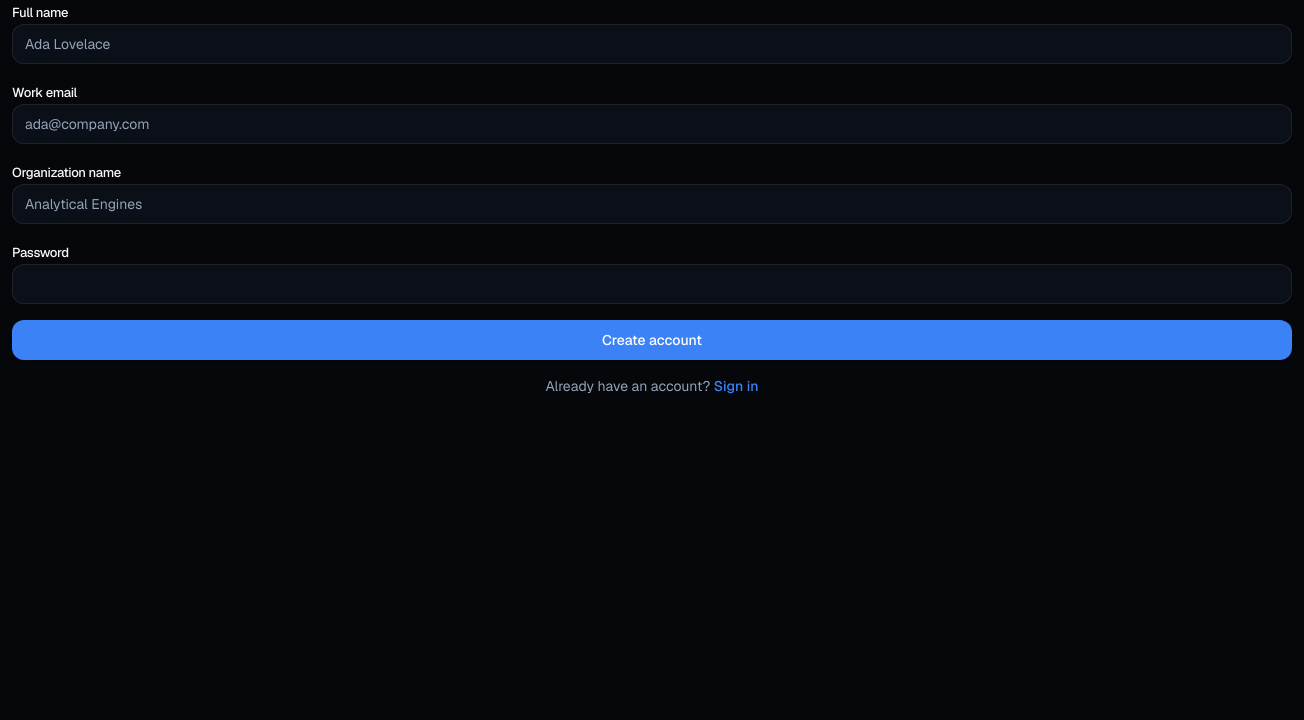
Test: RegisterForm › rejects a password without a number
Type "onlyletters" into the password field labelled "Password" at [652, 284], box top-left (12, 264), bottom-right (1292, 304)
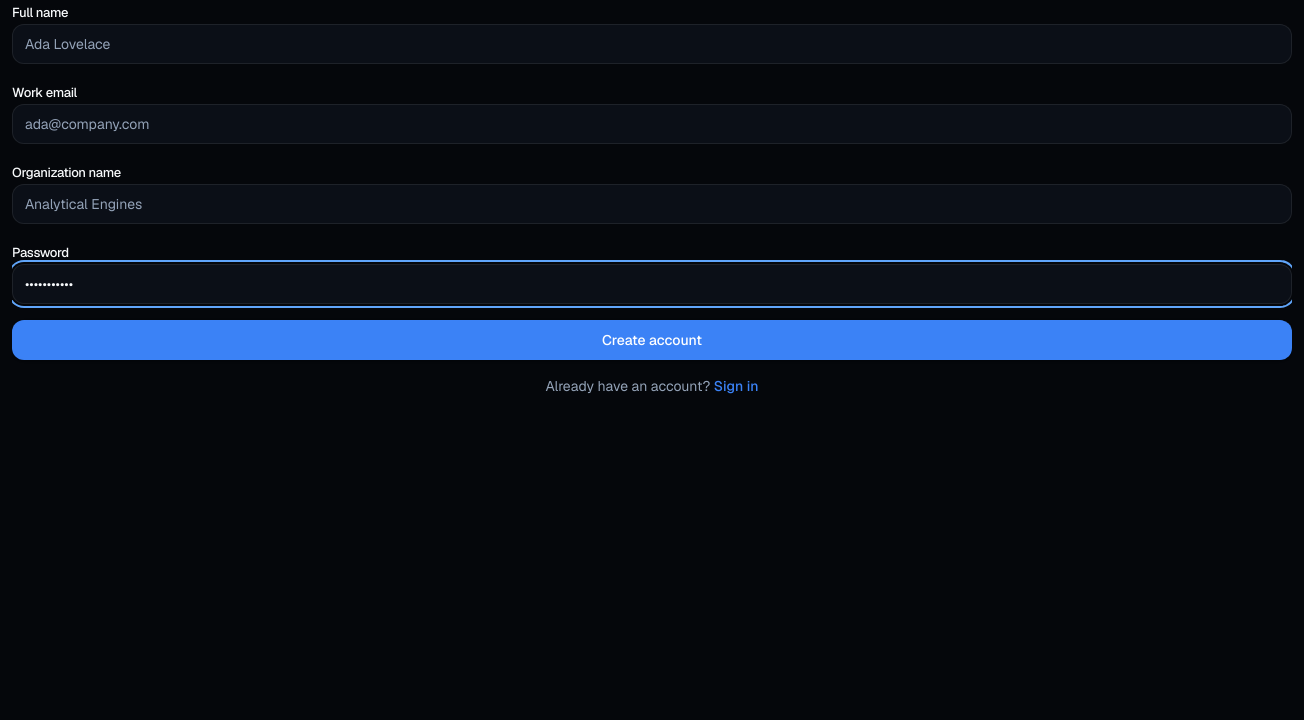
Click the button "Create account" at [652, 340], box top-left (12, 320), bottom-right (1292, 360)
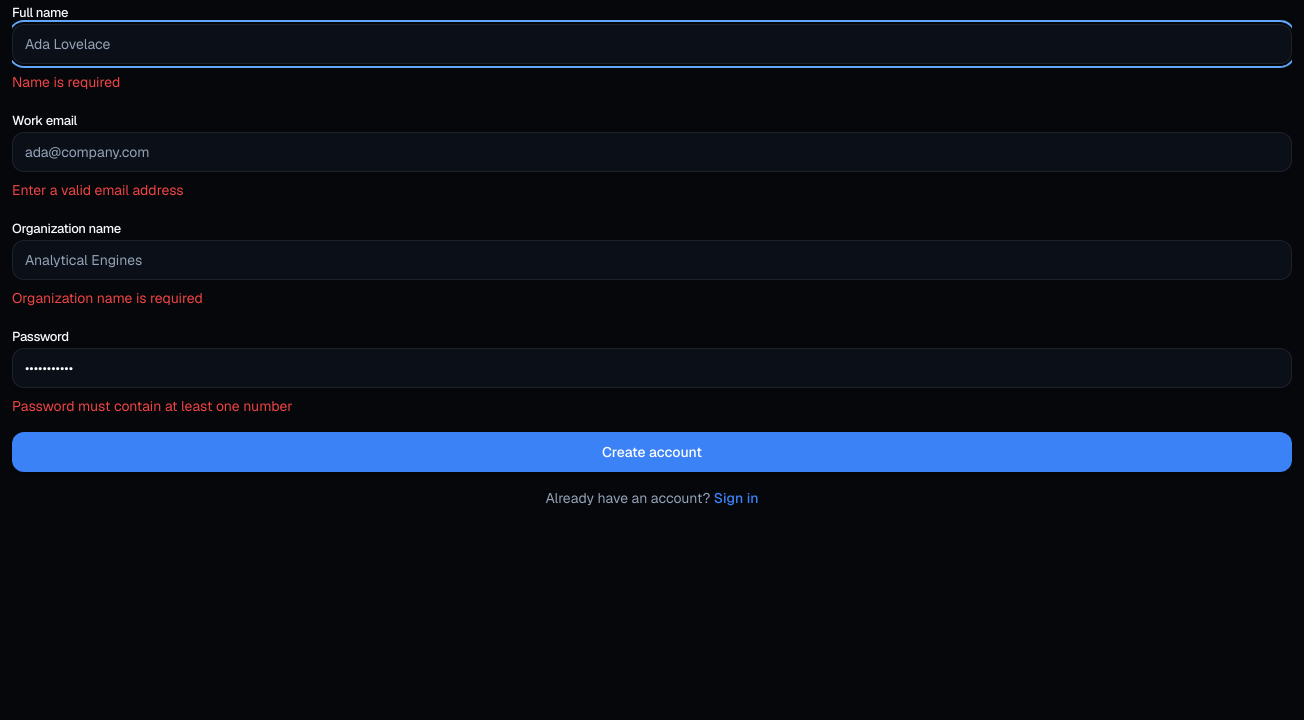
Check: the text "Password must contain at least one number" is shown, box top-left (12, 397), bottom-right (292, 415)
